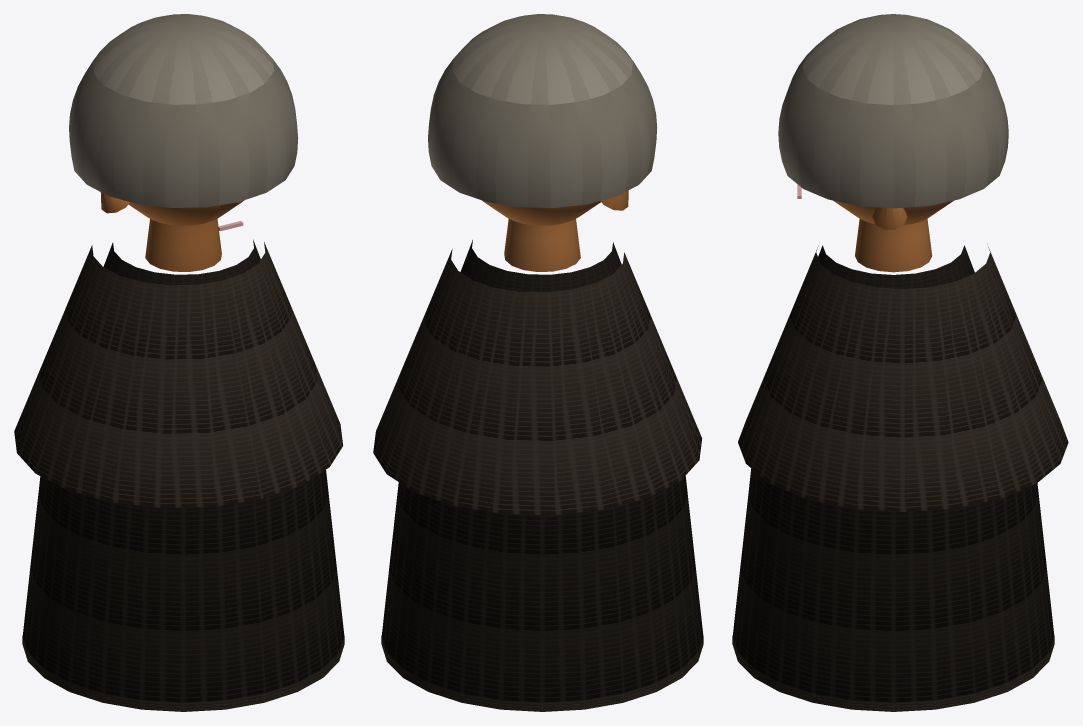
File: bethesda_witness.glb
3 renders of one model, left to right at view 1: azimuth 30°, elevation 25°; view 2: azimuth 150°, elevation 25°; view 3: azimuth 270°, elevation 25°, orthographic.
Visible parts, largest first — view 1: Character_bethesda_witness, head; view 2: Character_bethesda_witness, head; view 3: Character_bethesda_witness, head.
Boxes of the visible parts, bbox=[...] form: Character_bethesda_witness: bbox=[14, 14, 344, 711]; head: bbox=[128, 200, 243, 225]; Character_bethesda_witness: bbox=[373, 14, 703, 711]; head: bbox=[482, 200, 600, 225]; Character_bethesda_witness: bbox=[732, 14, 1068, 711]; head: bbox=[833, 200, 953, 225].
Size of the model in its own units: 0.871 by 1.8 by 0.8854.
8 materials, 4 textured.
